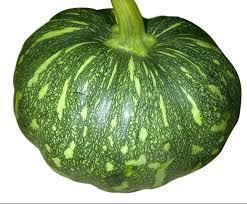pumpkin: (12, 0, 241, 193)
